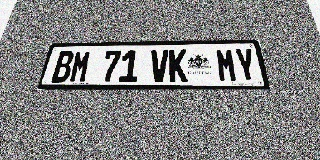1: (119, 50, 139, 82)
7: (100, 50, 122, 83)
B: (51, 51, 75, 83)
K: (169, 49, 188, 82)
M: (215, 48, 238, 82), (69, 51, 92, 83)
V: (150, 49, 168, 82)
Y: (234, 48, 258, 82)
